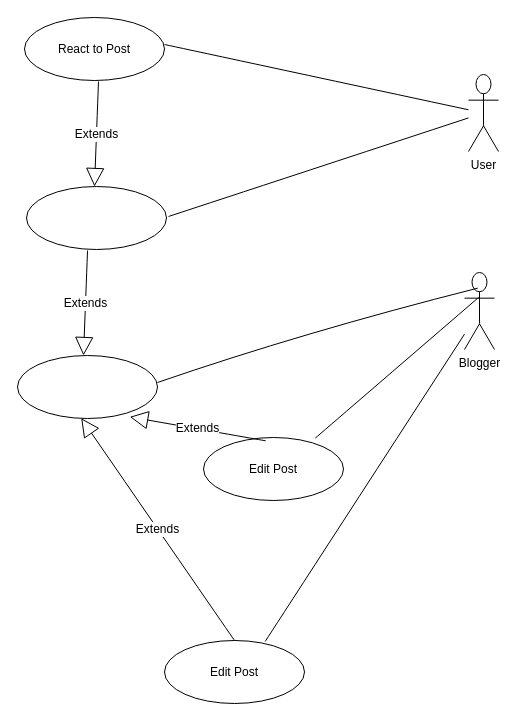
This 517x721 diagram has some shape labels left out. The centre of each missing label's shape, as x and y in pixels:
Create Post: the point at 87,386
View Post: the point at 96,218
